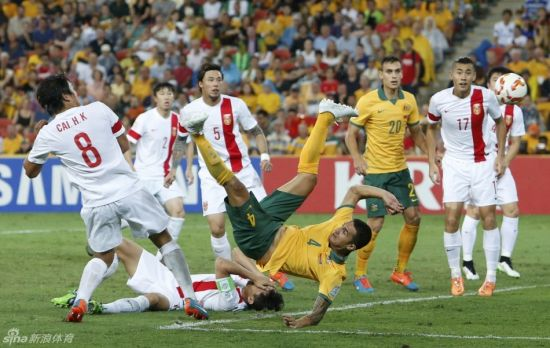10+: (1, 3, 539, 313)
down: (186, 94, 417, 333), (100, 234, 295, 320)
